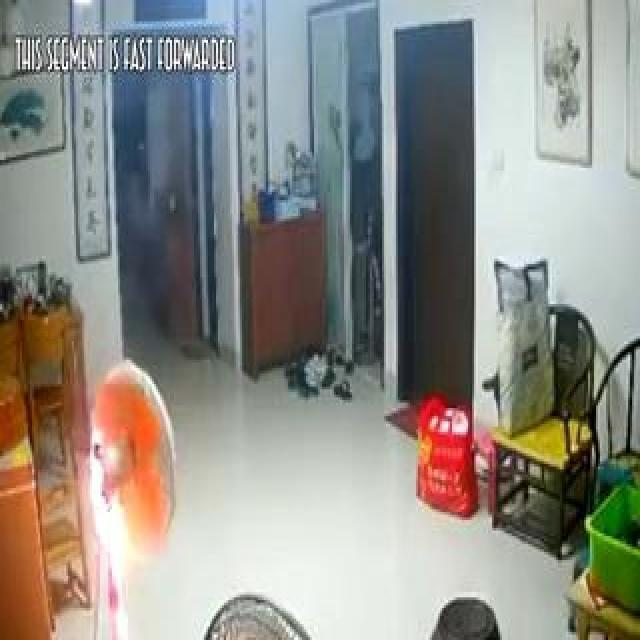Smoke: (86, 398, 134, 638)
